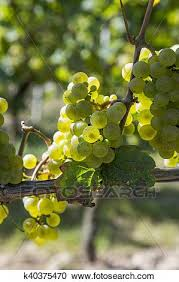grapes: (63, 69, 126, 170), (130, 51, 179, 151), (22, 148, 64, 252)
